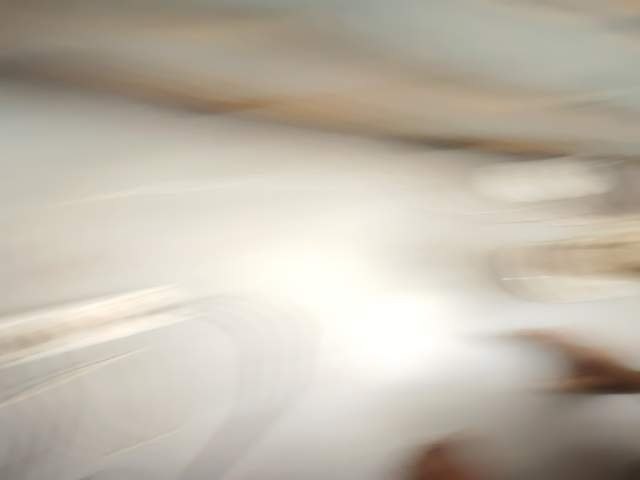pothole: (320, 270, 460, 360)
